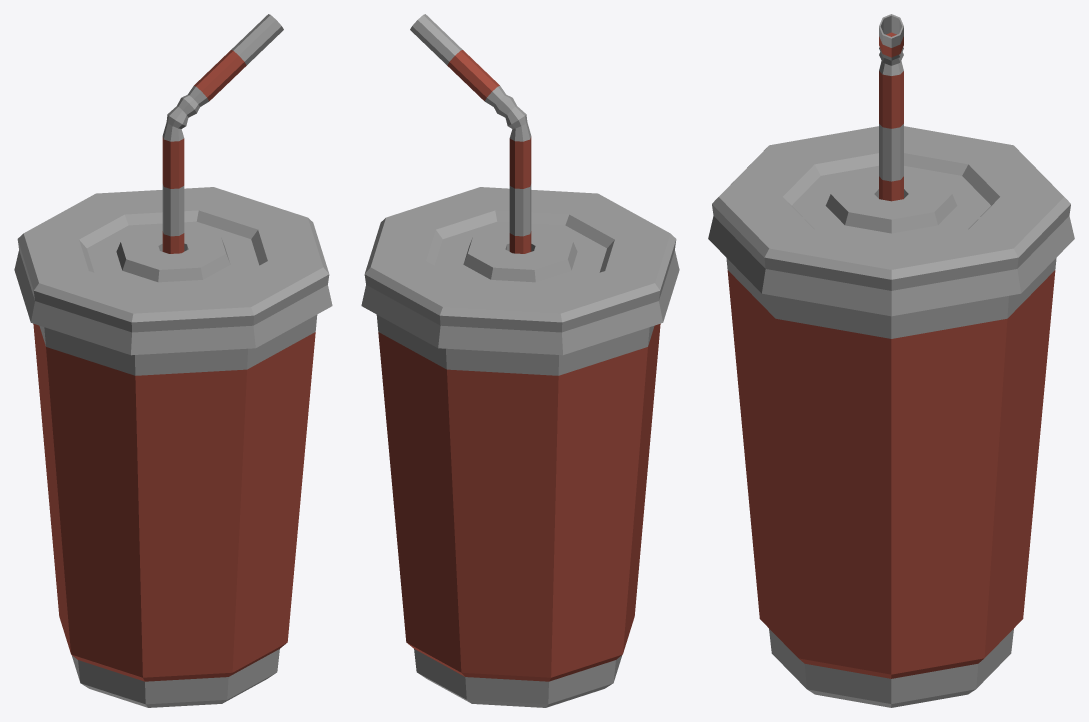
The model's file is Soda.gltf.
3 renders of one model, left to right at view 1: azimuth 30°, elevation 25°; view 2: azimuth 150°, elevation 25°; view 3: azimuth 270°, elevation 25°, orthographic. The views are drawn at different scales.
Visible parts, largest first — view 1: Soda; view 2: Soda; view 3: Soda.
Part boxes in pixels (x1=…): Soda: x1=14, y1=14, x2=332, y2=707; Soda: x1=361, y1=14, x2=679, y2=707; Soda: x1=708, y1=14, x2=1074, y2=707.
Size of the model in its own units: 0.9118 by 1.92 by 0.9118.
